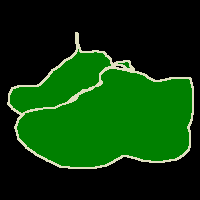shoe: (15, 68, 193, 168), (8, 33, 134, 114)
